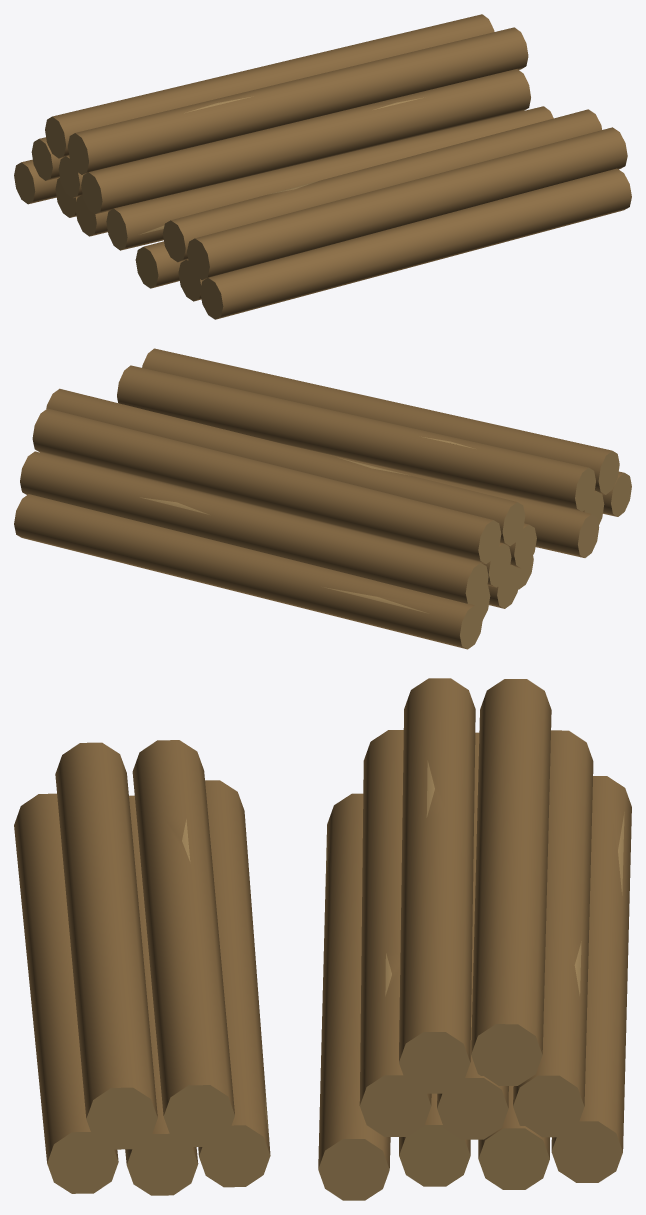
Rendered from Logs.glb.
The picture shows the model from 3 angles, top to bottom: view 1: azimuth 30°, elevation 25°; view 2: azimuth 150°, elevation 25°; view 3: azimuth 270°, elevation 25°; orthographic projection. The views are drawn at different scales.
Visible parts, largest first — view 1: Logs; view 2: Logs; view 3: Logs.
Part boxes in pixels (<box>): Logs: <box>14,14,631,319</box>; Logs: <box>14,348,631,649</box>; Logs: <box>14,678,631,1200</box>.
Size of the model in its own units: 1.16 by 0.2456 by 0.8352.
